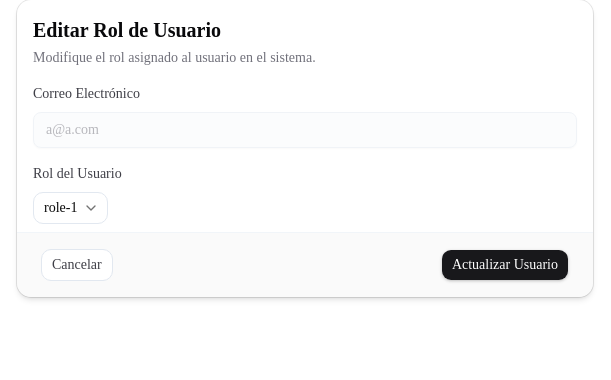
Test case: UserForm › muestra mensaje de error si el submit falla
The width and height of the screenshot is (611, 380).
Click the button "Actualizar Usuario": x=505, y=265 x1=441 y1=249 x2=569 y2=281
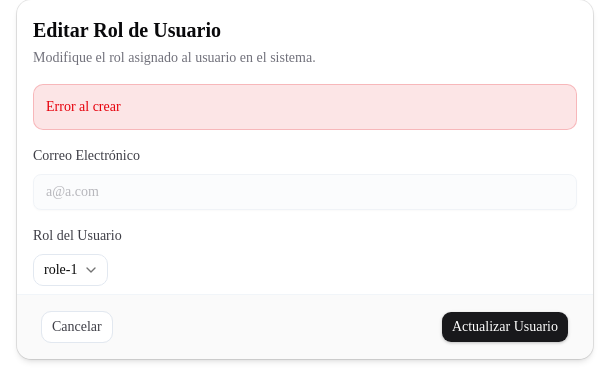
Check: the text "Error al crear" is shown, box x1=33 y1=84 x2=577 y2=130
